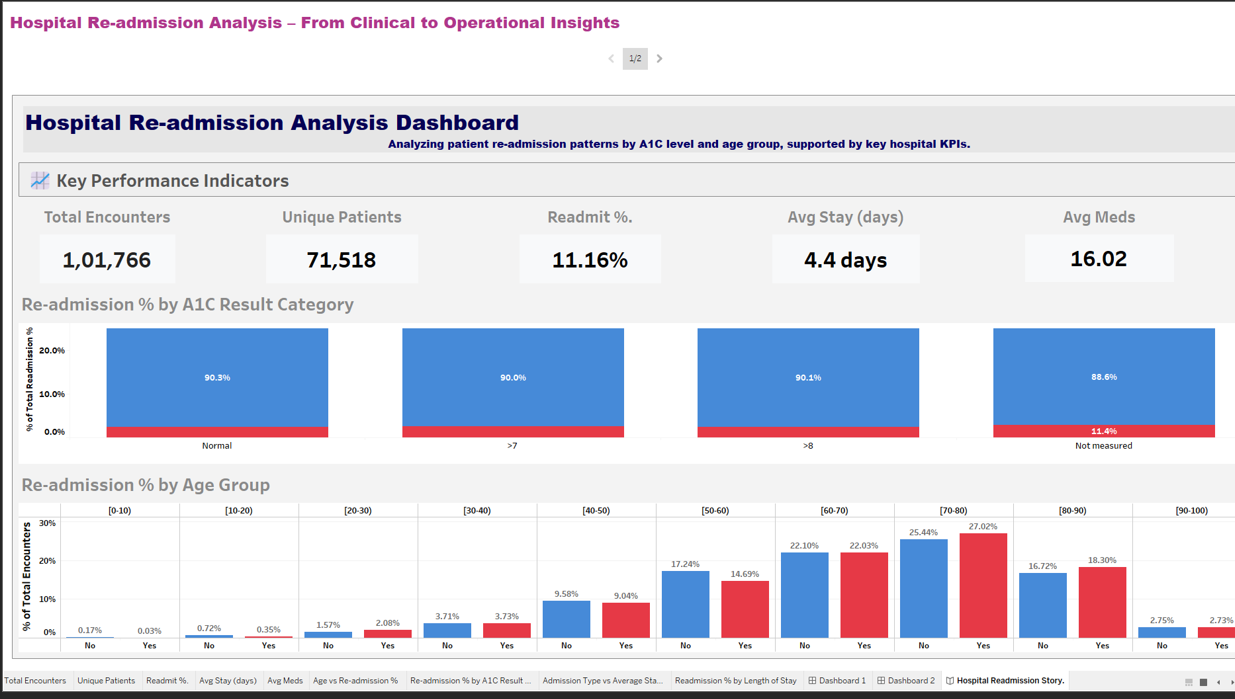

The page's visual inventory and layout, read from the dashboard file:
{"tool":"tableau","page":{"name":"Dashboard 1","canvas":[1000,1000],"units":"permille","ordinal":0},"visuals":[{"type":"text","box":[10.7,18.8,978.7,105.8]},{"type":"text","box":[10.7,124.6,978.7,69]},{"type":"blank","box":[10.7,193.6,21.3,149.6]},{"type":"worksheet","title":"Total Encounters","mark":"Text","box":[32,193.6,174.4,149.6]},{"type":"blank","box":[206.4,193.6,21.3,149.6]},{"type":"worksheet","title":"Unique Patients","mark":"Automatic","box":[227.7,193.6,174.4,149.6]},{"type":"blank","box":[402.1,193.6,21.3,149.6]},{"type":"worksheet","title":"Readmit %.","mark":"Automatic","box":[423.4,193.6,174.4,149.6]},{"type":"blank","box":[597.9,193.6,21.3,149.6]},{"type":"worksheet","title":"Avg Stay (days)","mark":"Automatic","box":[619.1,193.6,174.4,149.6]},{"type":"blank","box":[793.6,193.6,21.3,149.6]},{"type":"worksheet","title":"Avg Meds","mark":"Automatic","box":[814.9,193.6,174.5,149.6]},{"type":"worksheet","title":"Re-admission % by A1C Result Category","mark":"Bar","cols":["A1C_Result"],"box":[10.7,343.2,978.7,312.2]},{"type":"worksheet","title":"Age vs Re-admission %","mark":"Bar","cols":["age","Readmitted_30Days"],"box":[10.7,655.4,978.7,325.8]}]}

Visuals, with their boxes on the dashboard's canvas, which has no fixed pixel size, in thousandths of its width and height (x1, y1, x2, y2). These are canvas units, not pixel positions in the 1235x699 screenshot, which may show the page scaled, cropped or inside an application window:
text: [left=11, top=19, right=989, bottom=125]
text: [left=11, top=125, right=989, bottom=194]
blank: [left=11, top=194, right=32, bottom=343]
"Total Encounters" worksheet (Text marks): [left=32, top=194, right=206, bottom=343]
blank: [left=206, top=194, right=228, bottom=343]
"Unique Patients" worksheet: [left=228, top=194, right=402, bottom=343]
blank: [left=402, top=194, right=423, bottom=343]
"Readmit %." worksheet: [left=423, top=194, right=598, bottom=343]
blank: [left=598, top=194, right=619, bottom=343]
"Avg Stay (days)" worksheet: [left=619, top=194, right=794, bottom=343]
blank: [left=794, top=194, right=815, bottom=343]
"Avg Meds" worksheet: [left=815, top=194, right=989, bottom=343]
"Re-admission % by A1C Result Category" worksheet (Bar marks): [left=11, top=343, right=989, bottom=655]
"Age vs Re-admission %" worksheet (Bar marks): [left=11, top=655, right=989, bottom=981]
